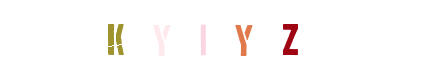I: (177, 0, 257, 80)
K: (74, 0, 154, 80)
Y: (169, 0, 249, 80), (201, 0, 281, 80)
Z: (250, 0, 330, 80)
